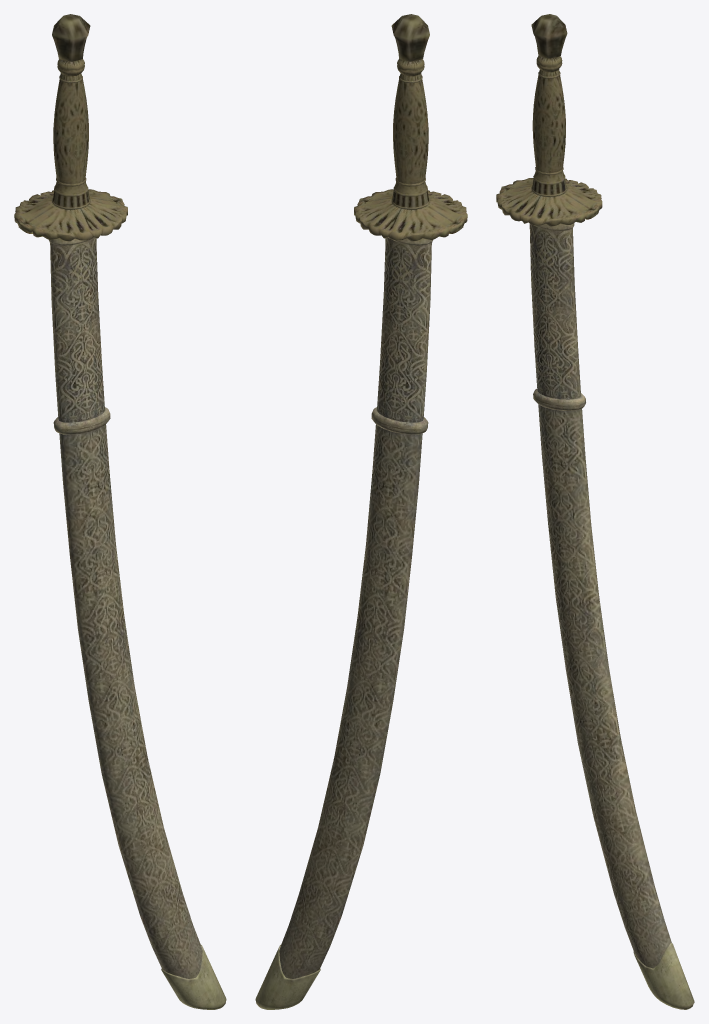
File: weapon-meteoric-ore-blade.glb
3 views of the same model, side by side, from view 1: azimuth 30°, elevation 25°; view 2: azimuth 150°, elevation 25°; view 3: azimuth 330°, elevation 25° (orthographic). The views are drawn at different scales.
Visible parts, largest first — view 1: wp_a_0553; view 2: wp_a_0553; view 3: wp_a_0553.
Part boxes in pixels (x1=…): wp_a_0553: x1=14, y1=14, x2=226, y2=1009; wp_a_0553: x1=255, y1=14, x2=467, y2=1009; wp_a_0553: x1=496, y1=14, x2=694, y2=1009.
Bounding box in the file's own units: 0.2629 × 1.25 × 0.1199.
Materials: 2 (2 with a texture image).
